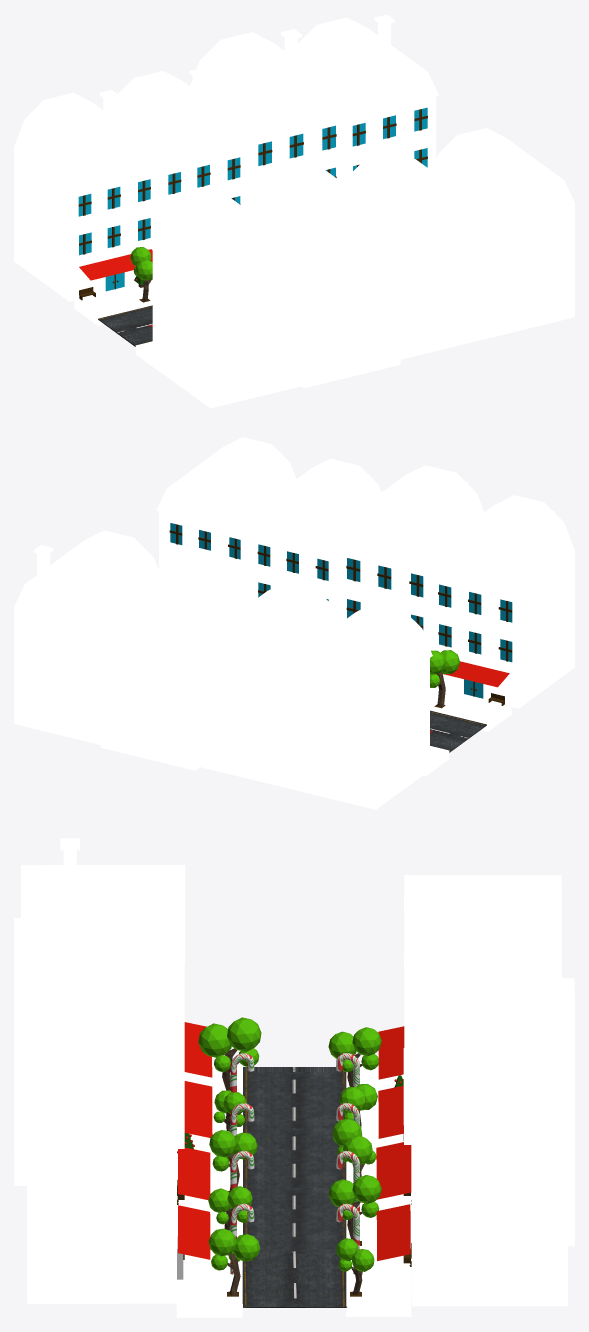
The picture shows the model from 3 angles, top to bottom: view 1: azimuth 30°, elevation 25°; view 2: azimuth 150°, elevation 25°; view 3: azimuth 270°, elevation 25°; orthographic projection. The views are drawn at different scales.
Parts seen in each view (by area): view 1: building.007, building.002, building.004, building.006, building.005, House1.001, House1.008, House1.005, House1.003, House1.004, House1.002, House1.007 (+13 smaller); view 2: building.002, building.007, building, building.003, building.001, House1.001, House1.008, House1.005, House1.003, House1.004, House1.002, House1.007 (+12 smaller); view 3: building.003, building.006, Cube, House1.004, House1.007, House1.005, House1.001, House1.006, House1.003, House1.008, House1.002, Cube.002 (+19 smaller).
Boxes of the visible parts, x1=… form: building.007: x1=152, y1=247, x2=301, y2=408; building.002: x1=14, y1=147, x2=158, y2=301; building.004: x1=301, y1=241, x2=400, y2=388; building.006: x1=485, y1=203, x2=574, y2=338; building.005: x1=400, y1=225, x2=485, y2=359; House1.001: x1=190, y1=32, x2=347, y2=136; House1.008: x1=150, y1=188, x2=301, y2=289; House1.005: x1=245, y1=160, x2=400, y2=264; House1.003: x1=14, y1=92, x2=161, y2=189; House1.004: x1=298, y1=17, x2=438, y2=118; House1.002: x1=115, y1=71, x2=251, y2=167; House1.007: x1=431, y1=128, x2=574, y2=224; building.002: x1=288, y1=658, x2=429, y2=809; building.007: x1=427, y1=551, x2=574, y2=708; building: x1=100, y1=626, x2=205, y2=770; building.003: x1=14, y1=607, x2=100, y2=744; building.001: x1=200, y1=655, x2=287, y2=788; House1.001: x1=101, y1=546, x2=255, y2=649; House1.008: x1=424, y1=495, x2=574, y2=593; House1.005: x1=332, y1=465, x2=484, y2=567; House1.003: x1=288, y1=602, x2=432, y2=697; House1.004: x1=14, y1=530, x2=157, y2=627; House1.002: x1=200, y1=581, x2=340, y2=675; House1.007: x1=156, y1=437, x2=296, y2=531; building.003: x1=411, y1=1145, x2=567, y2=1306; building.006: x1=27, y1=1140, x2=176, y2=1303; Cube: x1=242, y1=1067, x2=346, y2=1307; House1.004: x1=403, y1=1048, x2=567, y2=1144; House1.007: x1=27, y1=1055, x2=184, y2=1148; House1.005: x1=14, y1=917, x2=184, y2=1018; House1.001: x1=404, y1=978, x2=574, y2=1078; House1.006: x1=27, y1=996, x2=184, y2=1057; House1.003: x1=404, y1=875, x2=561, y2=945; House1.008: x1=21, y1=865, x2=185, y2=961; House1.002: x1=404, y1=934, x2=561, y2=978; Cube.002: x1=346, y1=1065, x2=411, y2=1316.
Size of the model in its own units: 86.81 by 40.48 by 83.68.
Materials: 14 (3 with a texture image).
